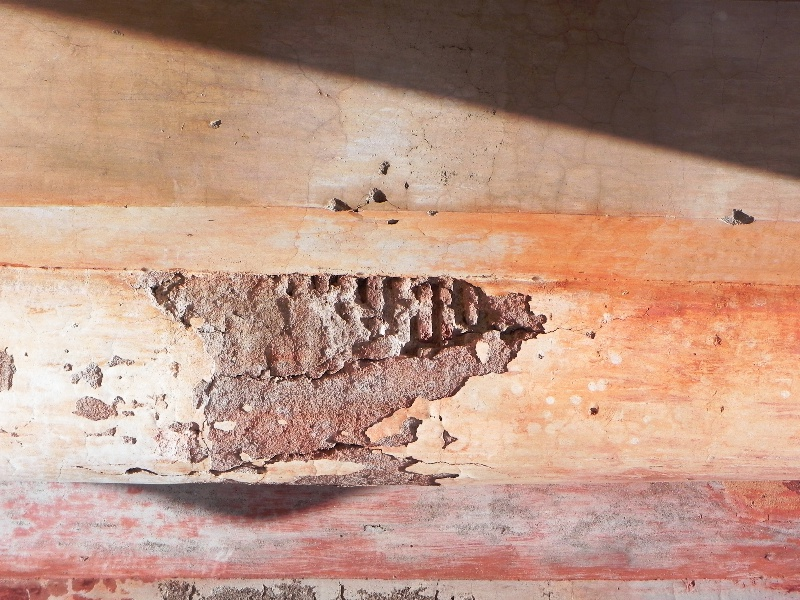Exposed Bricks: (309, 278, 500, 348)
Spalling: (151, 337, 458, 492), (305, 176, 413, 227), (715, 201, 771, 238)
